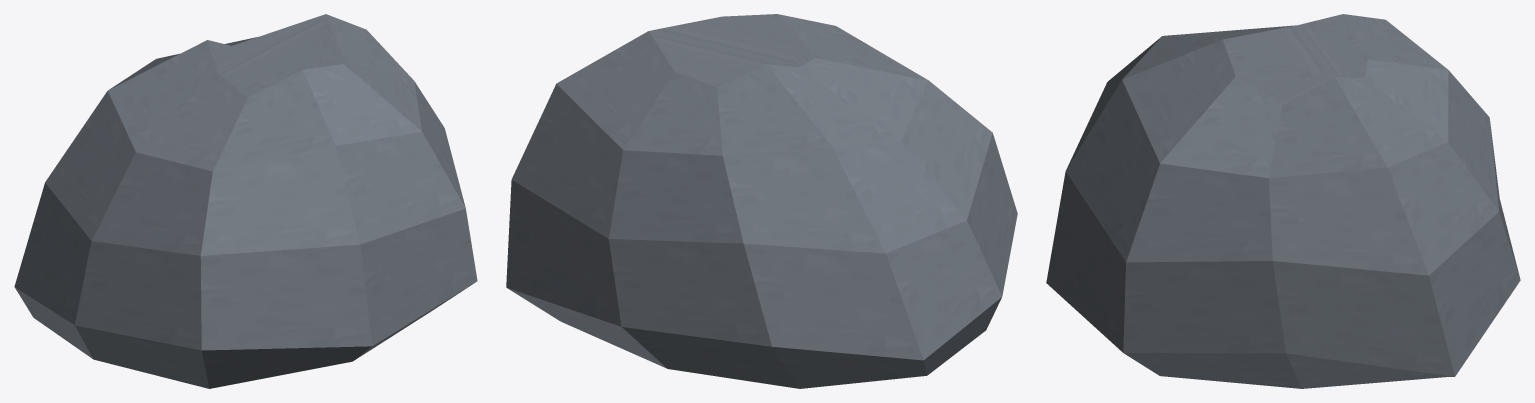
The model's file is showcase_boulder.glb.
3 renders of one model, left to right at view 1: azimuth 30°, elevation 25°; view 2: azimuth 150°, elevation 25°; view 3: azimuth 270°, elevation 25°, orthographic. The views are drawn at different scales.
Visible parts, largest first — view 1: outdoor_showcase_boulder; view 2: outdoor_showcase_boulder; view 3: outdoor_showcase_boulder.
Part boxes in pixels (<box>): outdoor_showcase_boulder: <box>14,14,477,388</box>; outdoor_showcase_boulder: <box>506,14,1017,388</box>; outdoor_showcase_boulder: <box>1046,14,1520,388</box>.
Size of the model in its own units: 1.4 by 0.85 by 1.3.
1 material, 1 textured.
